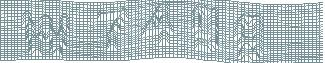4: (139, 3, 176, 47)
7: (95, 6, 129, 53)
W: (20, 10, 70, 58)
g: (232, 12, 266, 61), (190, 3, 221, 55)
